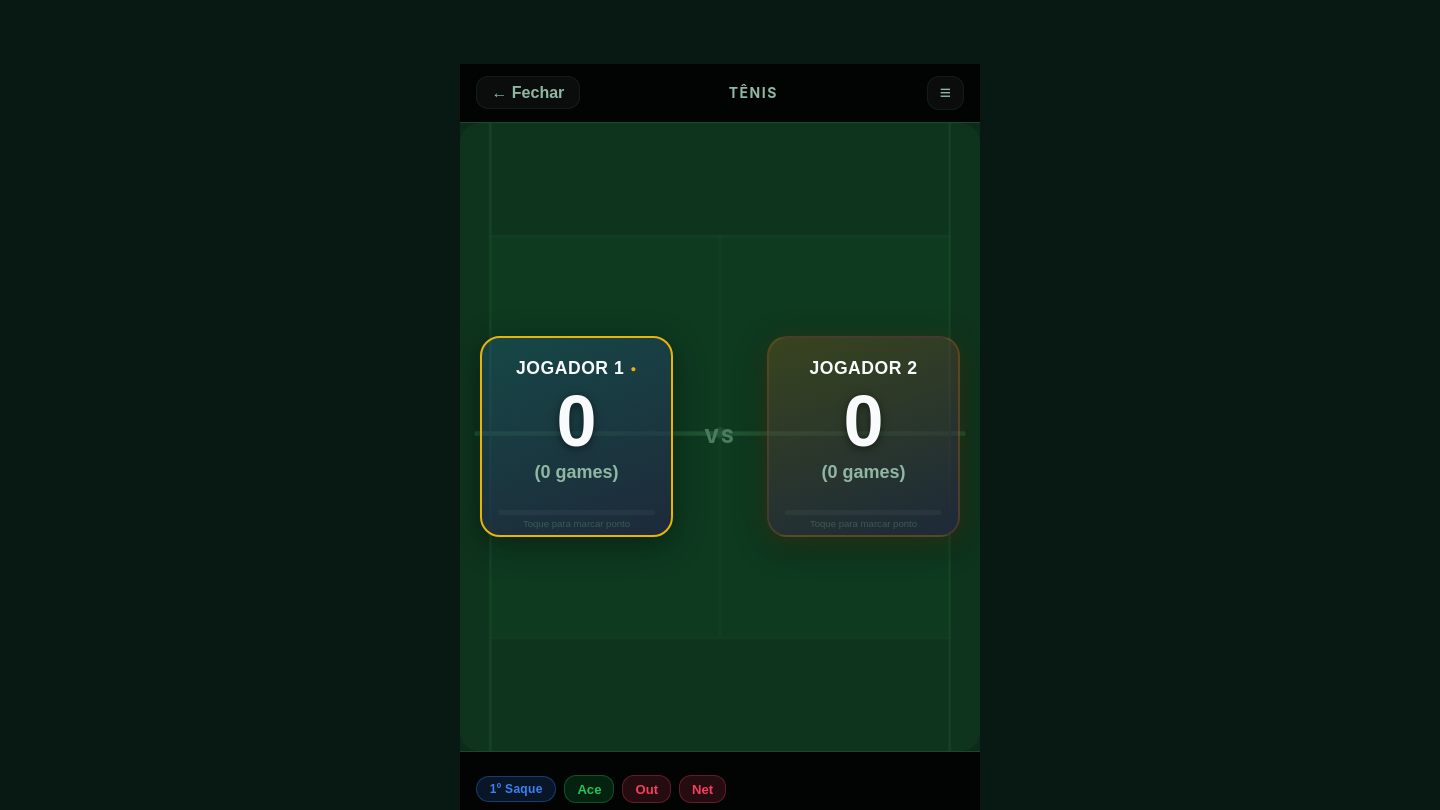
ScoreboardV2 - Ace Button Behavior › Ace button functionality › closes ServerEffectModal after confirming point
Check: the text "Jogador 1" is shown, box [516,358,624,378]
Click Ace button
Click the button "Ace": coordinates (589, 789) [564,775,614,803]
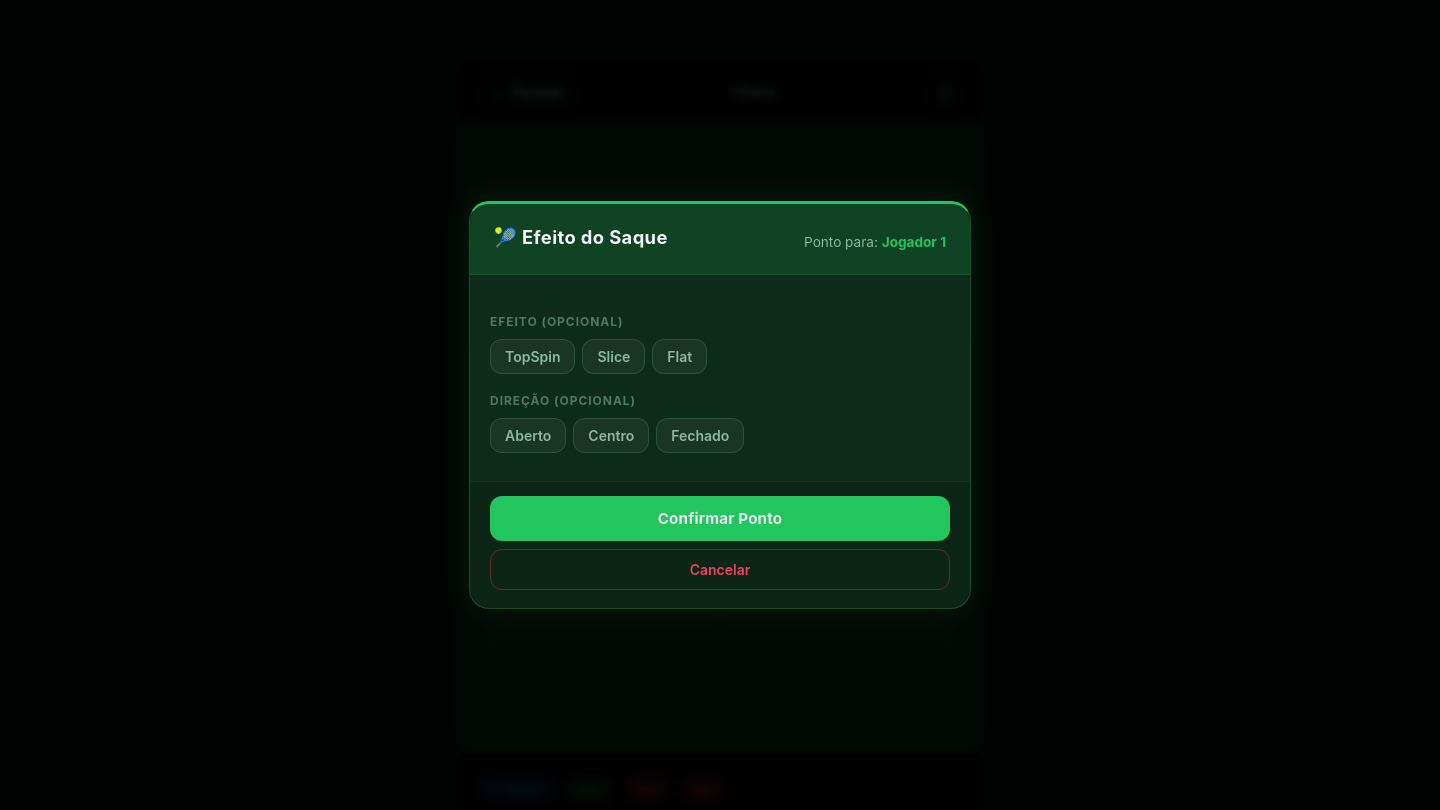
Check: the element with test id "server-effect-modal" is shown, box [469,201,971,609]
Click the button with aria-label "Confirm ServerEffect": coordinates (720, 518) [490,496,950,541]
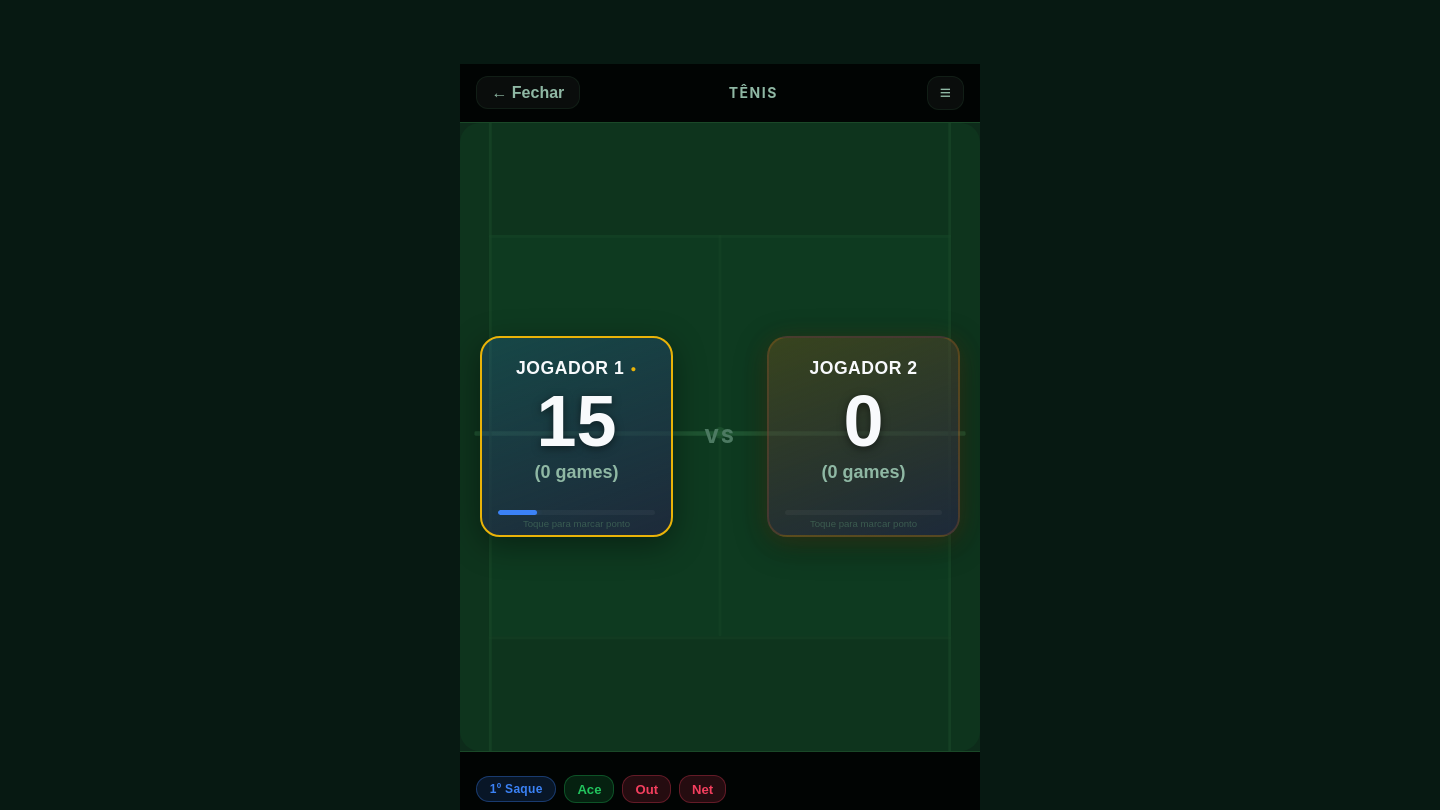
Check: the element with test id "server-effect-modal" is gone
